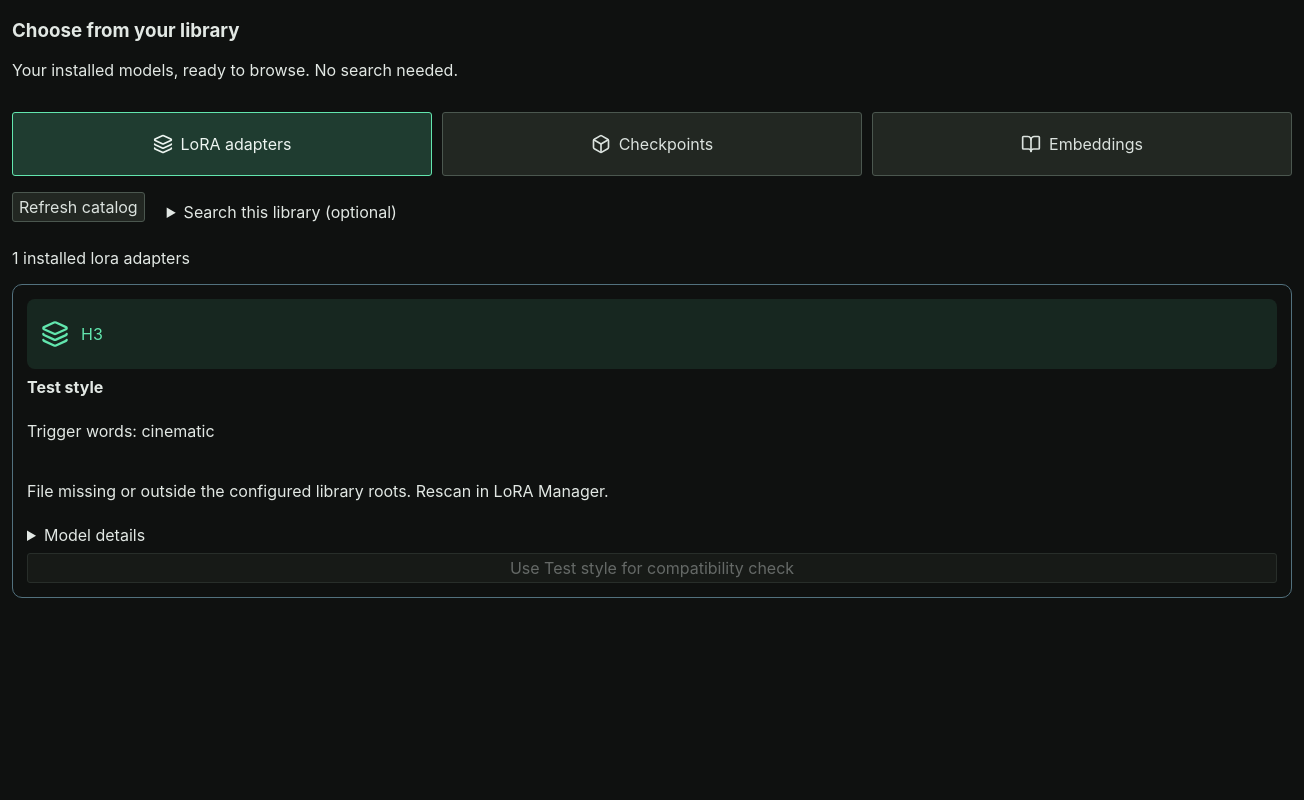
disables missing files and reports a failed refresh without stale choices
Check: the button "Use Test style for compatibility check" is disabled, box x1=27 y1=553 x2=1277 y2=583
What coordinates should you click on to do the following:
click the button "Refresh catalog"
I would click on:
 (78, 207)
Its box is x1=12 y1=192 x2=145 y2=222.
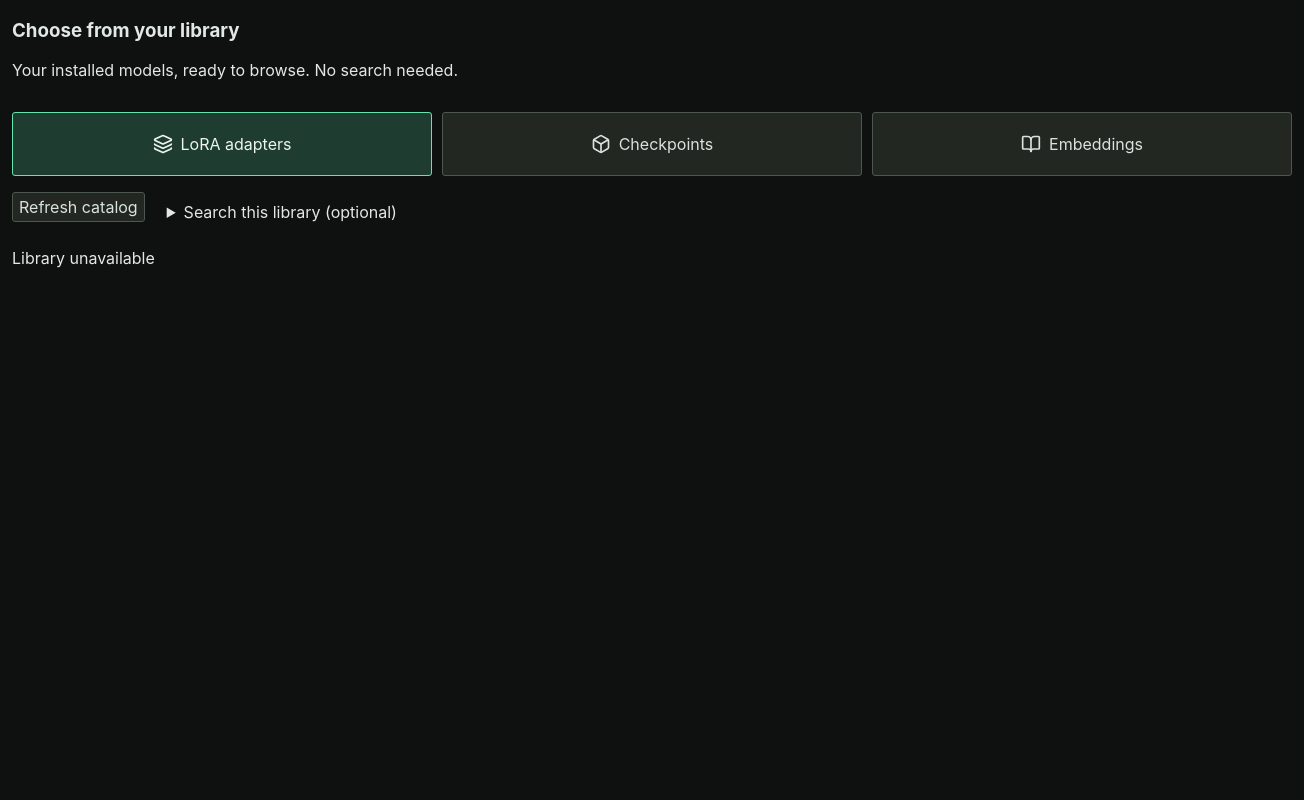
Check: the text "Library unavailable" is shown, box x1=12 y1=248 x2=155 y2=268
Check: the button "Use Test style" is gone
